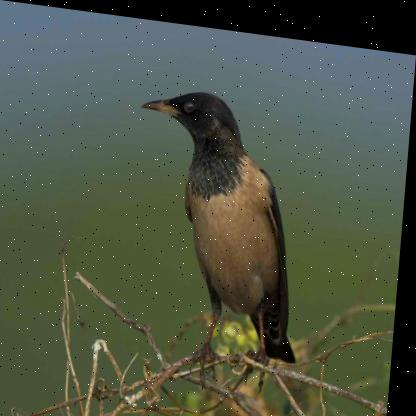Burung: (130, 79, 318, 377)
